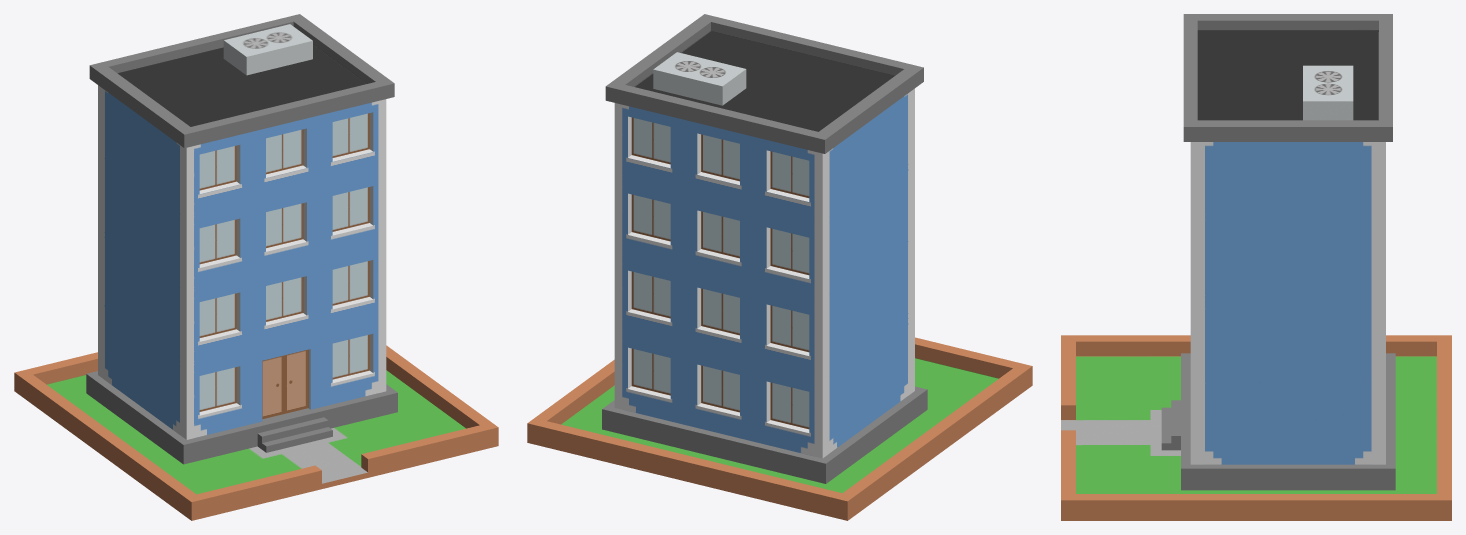
Rendered from Building_04.FBX.
3 views of the same model, side by side, from view 1: azimuth 30°, elevation 25°; view 2: azimuth 150°, elevation 25°; view 3: azimuth 270°, elevation 25° (orthographic). The views are drawn at different scales.
Parts seen in each view (by area): view 1: Building_04; view 2: Building_04; view 3: Building_04.
Part boxes in pixels (left/top/right/bottom): Building_04: left=14, top=14, right=498, bottom=520; Building_04: left=527, top=14, right=1032, bottom=520; Building_04: left=1061, top=14, right=1451, bottom=520.
Size of the model in its own units: 96.09 by 96.09 by 103.
1 material, 1 textured.
